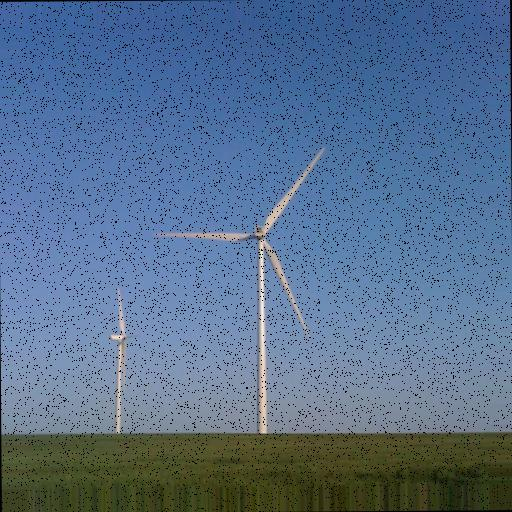wind turbine: (149, 145, 327, 432), (106, 285, 130, 428)
